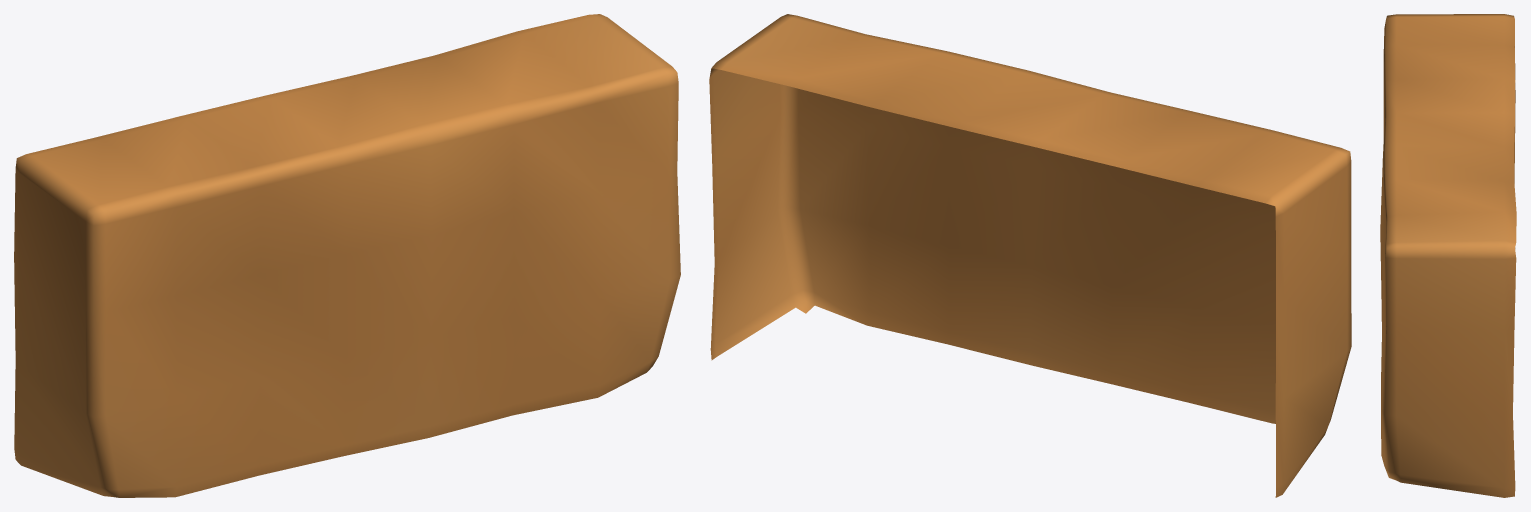
File: block_d.glb
The picture shows the model from 3 angles, left to right: view 1: azimuth 30°, elevation 25°; view 2: azimuth 150°, elevation 25°; view 3: azimuth 270°, elevation 25°; orthographic projection. The views are drawn at different scales.
Visible parts, largest first — view 1: block_d; view 2: block_d; view 3: block_d.
Boxes of the visible parts, x1,y1,x2,y2 form: block_d: (14,14,680,497); block_d: (709,14,1351,497); block_d: (1380,14,1516,497).
Bounding box in the file's own units: 1.5 × 0.7526 × 0.3663.
